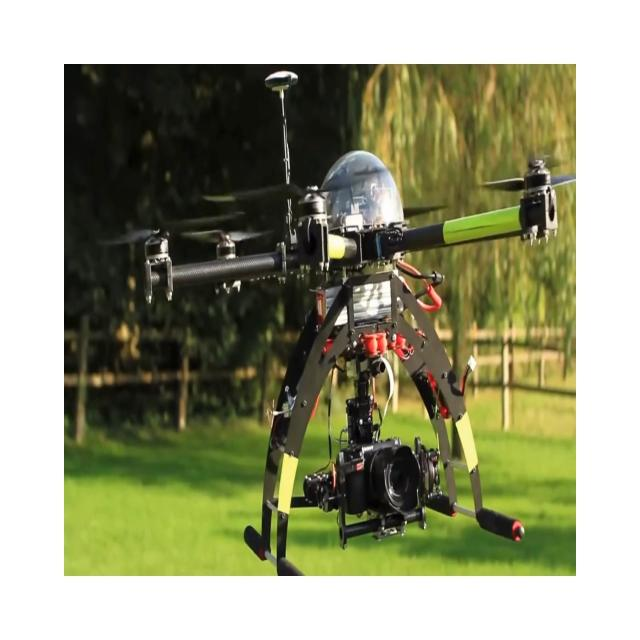drone: (100, 68, 576, 575)
